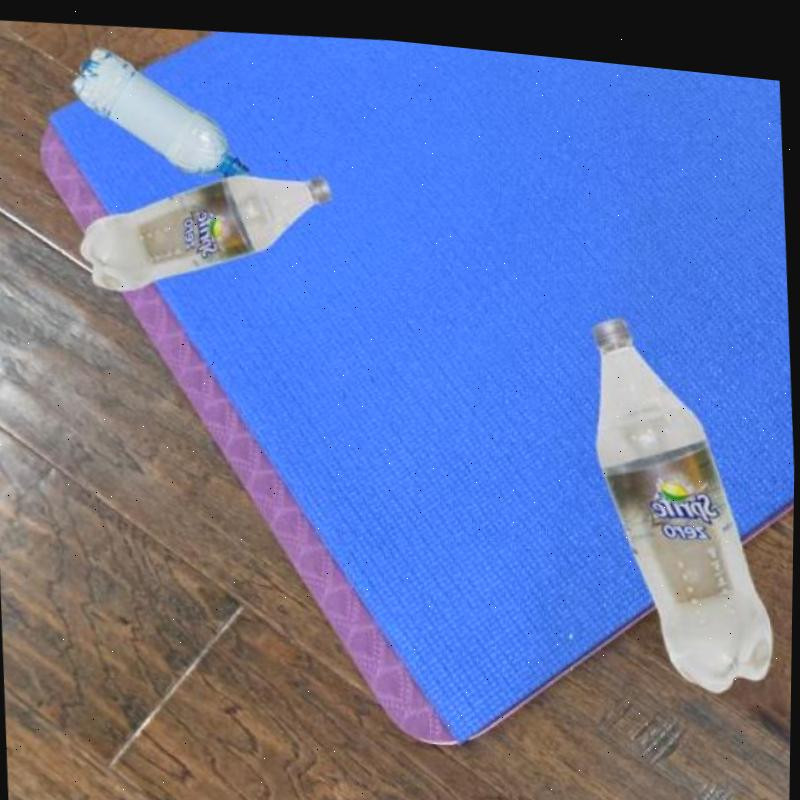botella: (590, 296, 782, 687), (75, 151, 338, 314), (68, 32, 259, 187)
